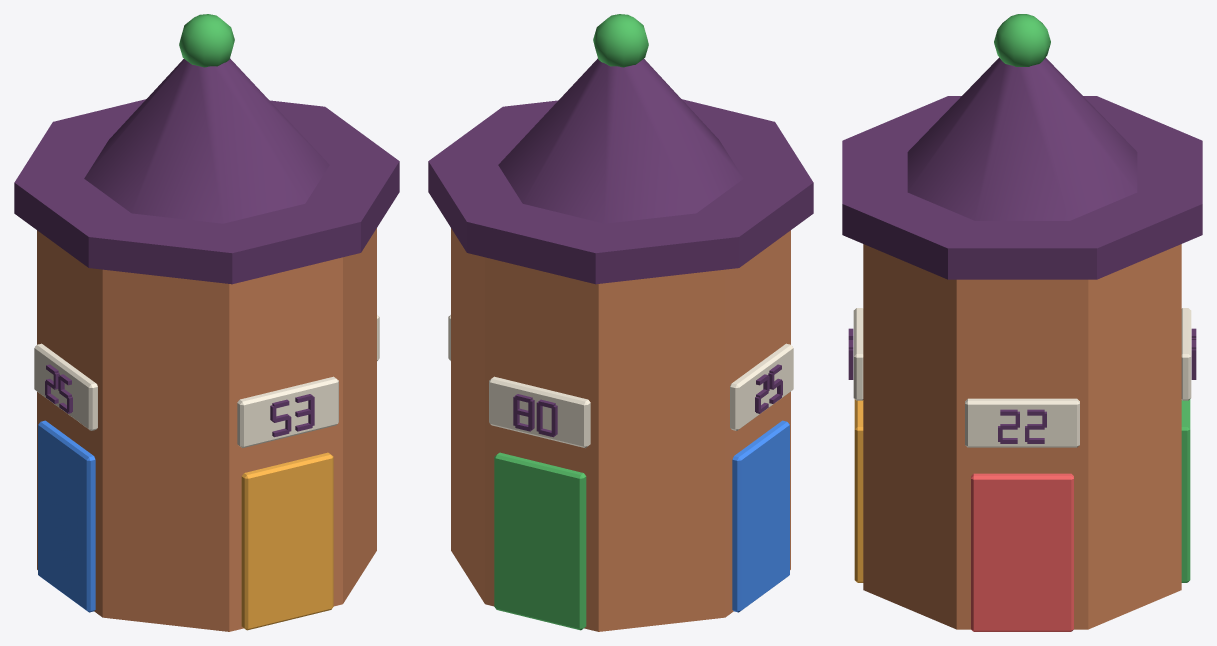
Rendered from bld_d4_d.glb.
3 views of the same model, side by side, from view 1: azimuth 30°, elevation 25°; view 2: azimuth 150°, elevation 25°; view 3: azimuth 270°, elevation 25° (orthographic).
Visible parts, largest first — view 1: bld_d4_d; view 2: bld_d4_d; view 3: bld_d4_d.
Part boxes in pixels (x1=…): bld_d4_d: x1=14, y1=14, x2=399, y2=631; bld_d4_d: x1=428, y1=14, x2=813, y2=631; bld_d4_d: x1=842, y1=14, x2=1202, y2=631.
Bounding box in the file's own units: 6.28 × 10.5 × 6.28.
